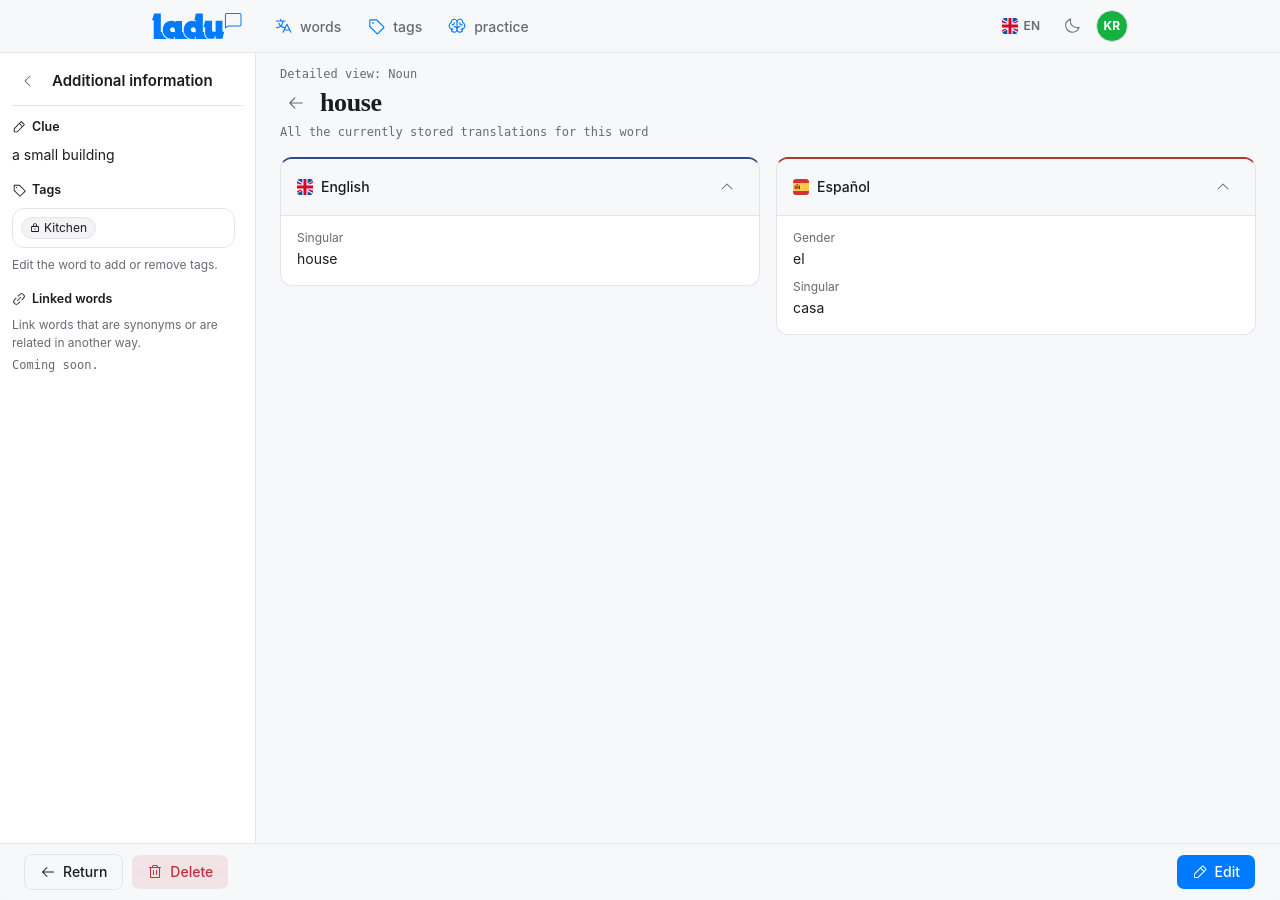
Test: WordPage — tags (view state is read-only; 2026-09-28 reversal) › Cancel after removing a tag in Edit discards the change — the view still shows it
The width and height of the screenshot is (1280, 900).
Step 1. Click the button "Edit" → (1216, 872), box x1=1176 y1=854 x2=1256 y2=890
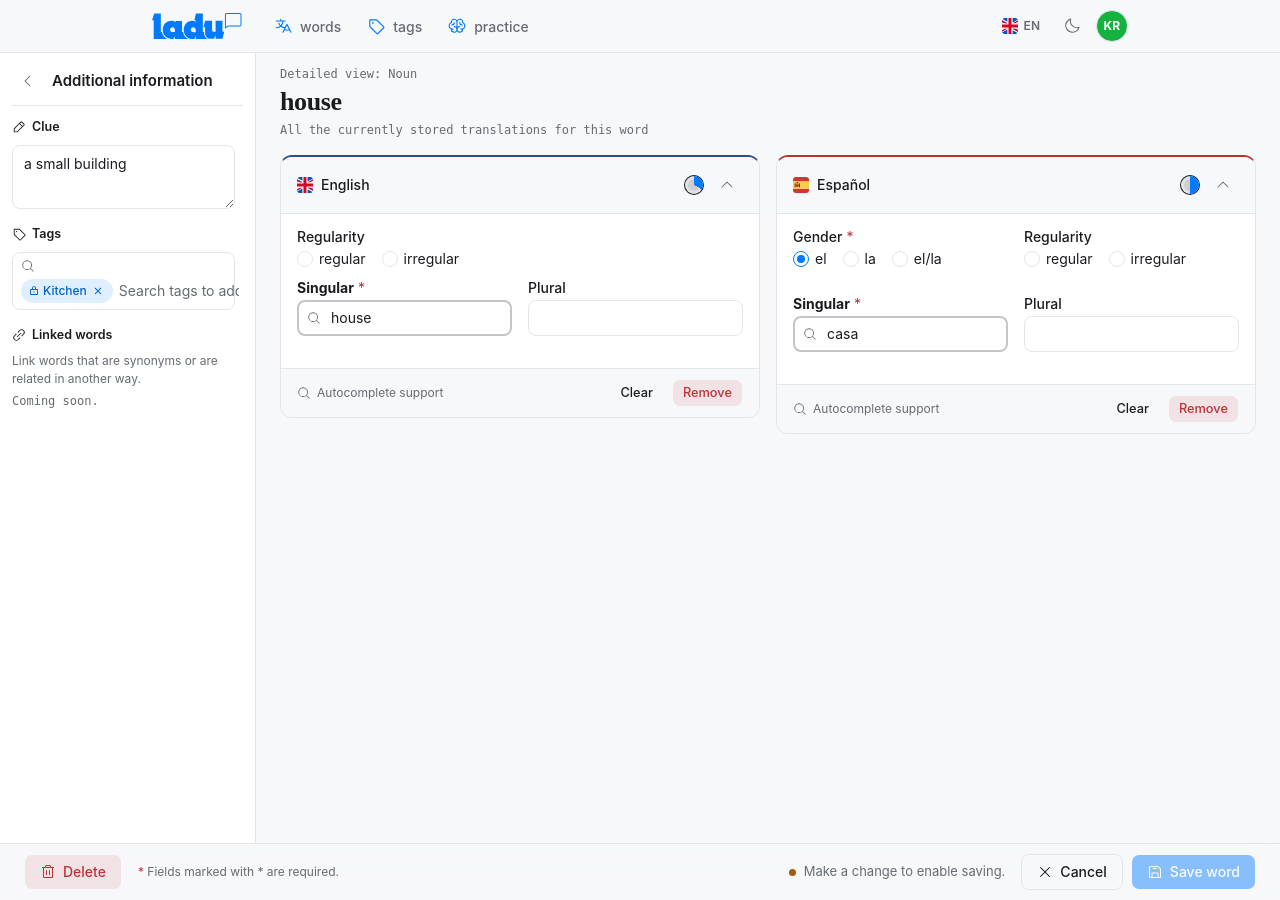
Step 2. Click the button named "Remove Kitchen" → (98, 290), box x1=91 y1=284 x2=105 y2=298
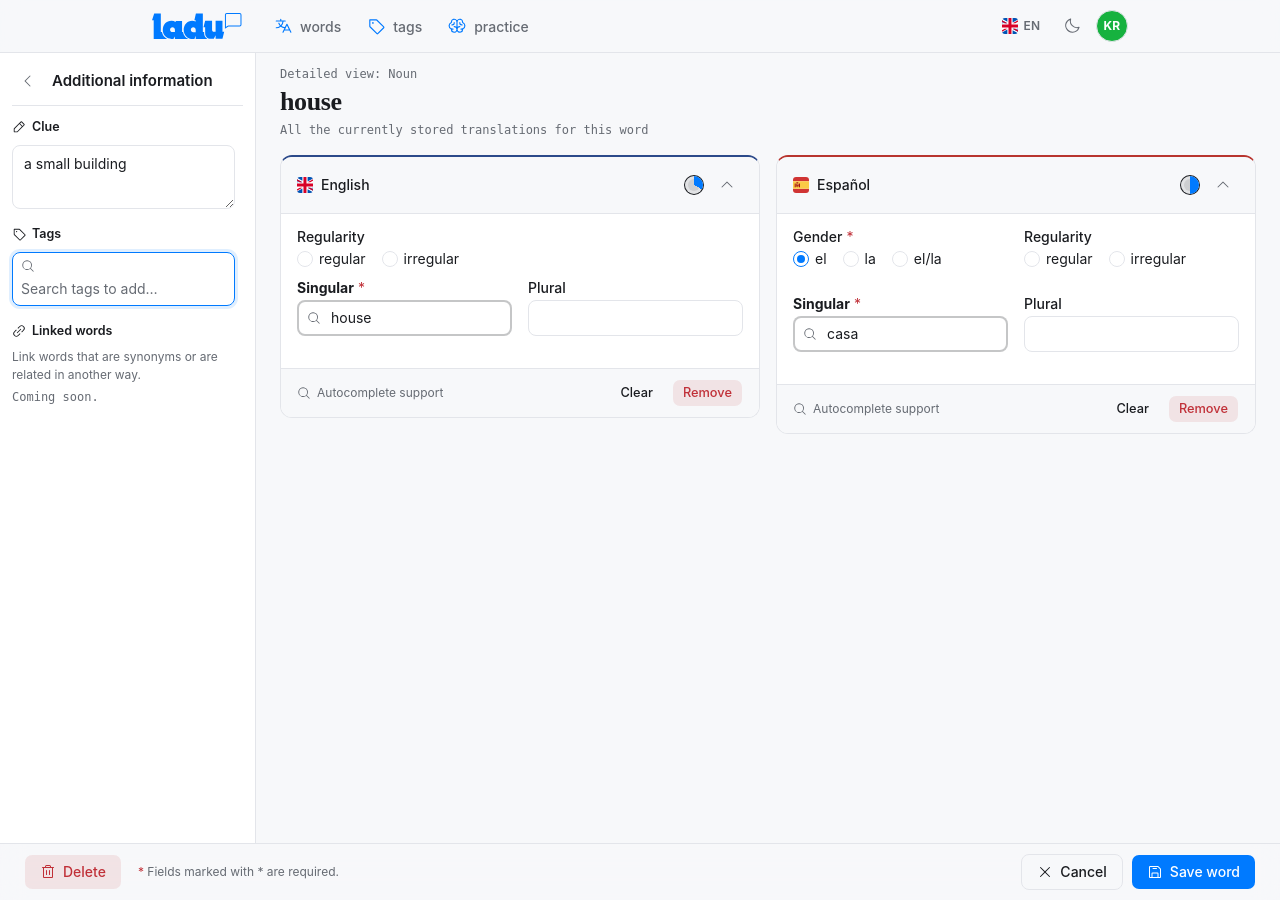
Step 3. Click the button "Cancel" → (1072, 872), box x1=1021 y1=854 x2=1123 y2=890
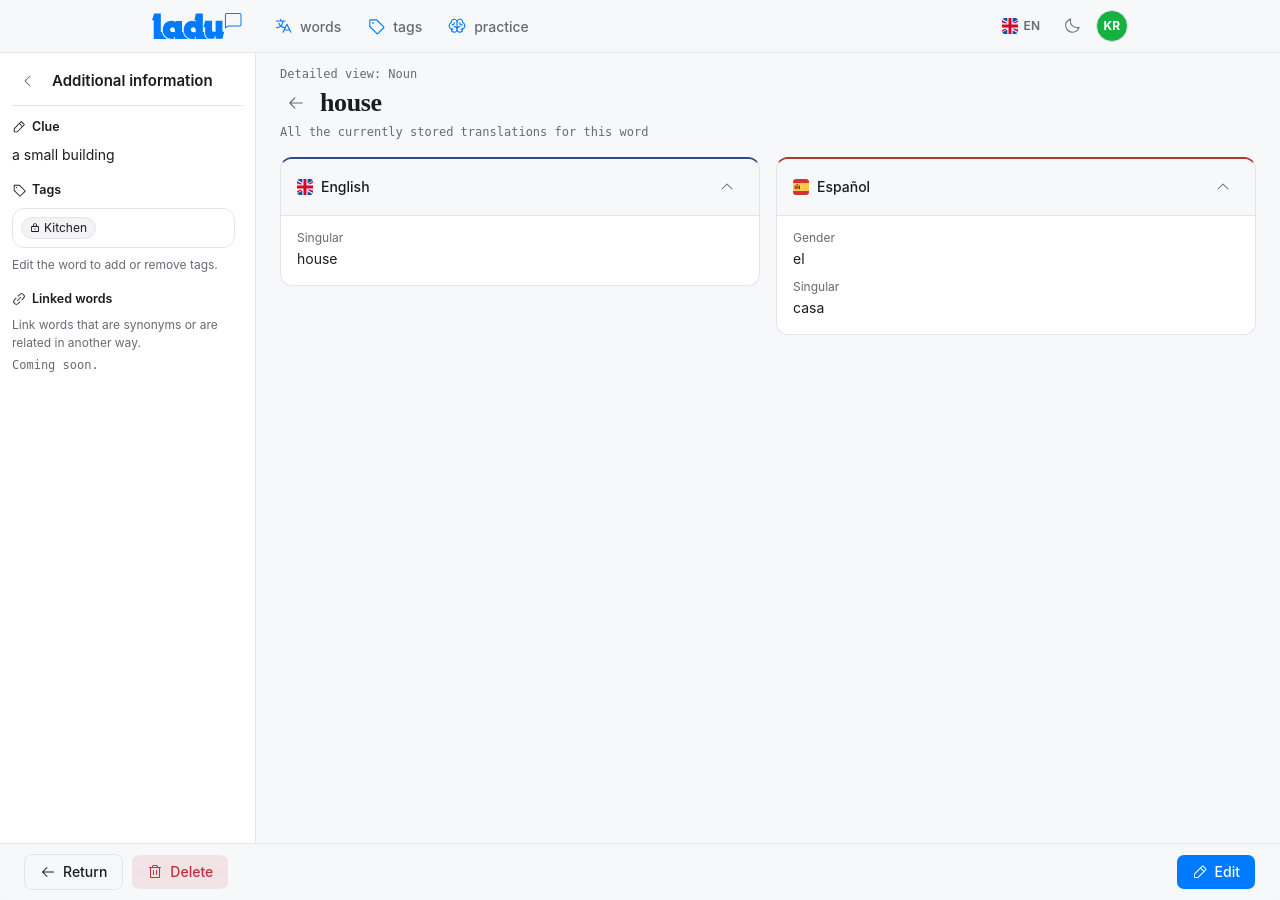
Result: the text "Kitchen" is shown at x1=44 y1=218 x2=87 y2=236
